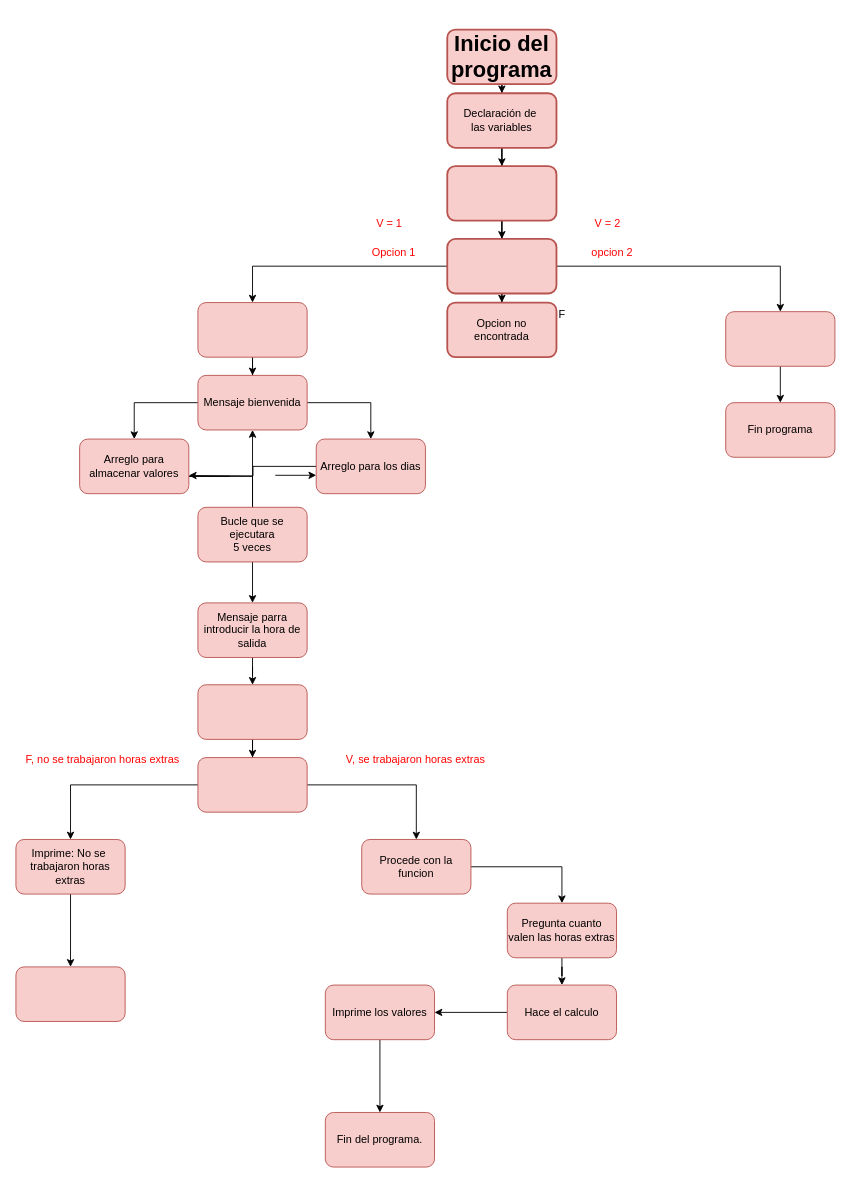
Some shapes in this 851 by 1183 pixel diagram are drawn without their labels. The shapes that lost their labels are listed below. From the top down, each one's box as (x1, y1, x2, y2) in pixels, then its label:
(446, 165, 557, 221): LLamar la funcion calcular horas extras()
(446, 238, 557, 294): Menu
(197, 302, 307, 357): Calcular Horas Extras
(725, 311, 835, 366): Saliendo...
(197, 684, 307, 739): Lee y almacena los datos en sus respectivas variables
(197, 757, 307, 812): Verifica si se trabajaron horas extras.
(15, 966, 125, 1021): Fin del programa
